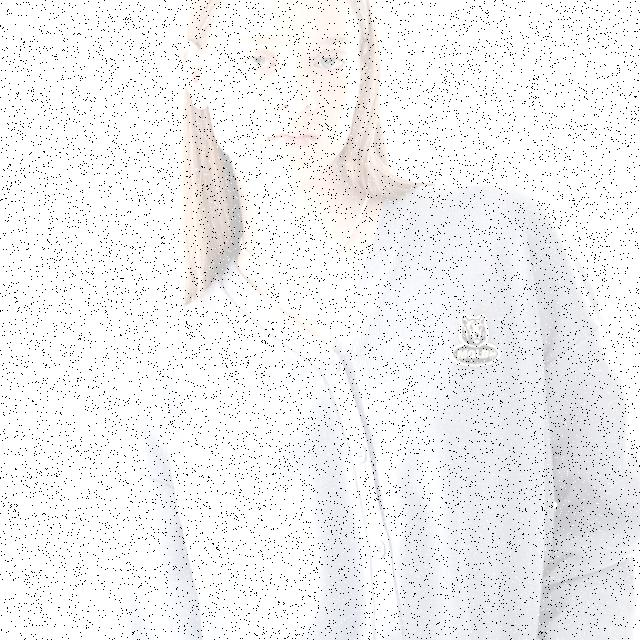Blouse_deep: (118, 180, 640, 640)
